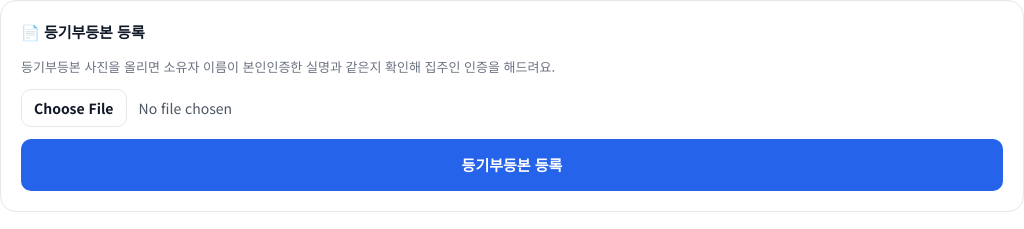
it: OwnerVerificationCard › uploads the photo to the owner presigned url and requests the verification
Earlier steps of the test are not shown.
Click the button "등기부등본 등록". click: click(512, 165)
box: [21,139,1003,191]
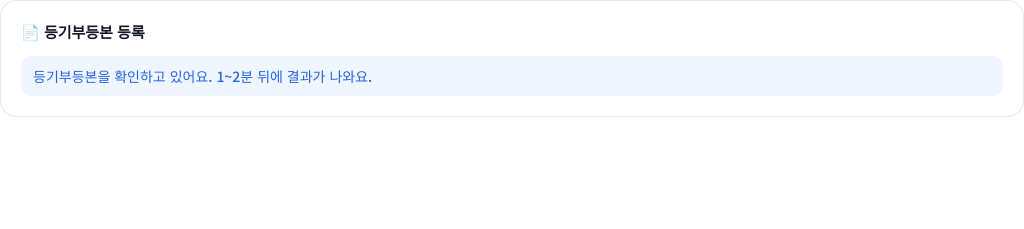
Expected: the text "등기부등본을 확인하고 있어요. 1~2분 뒤에 결과가 나와요." is shown, [21,56,1003,96]
Expected: the text labelled "등기부등본 사진" is gone
